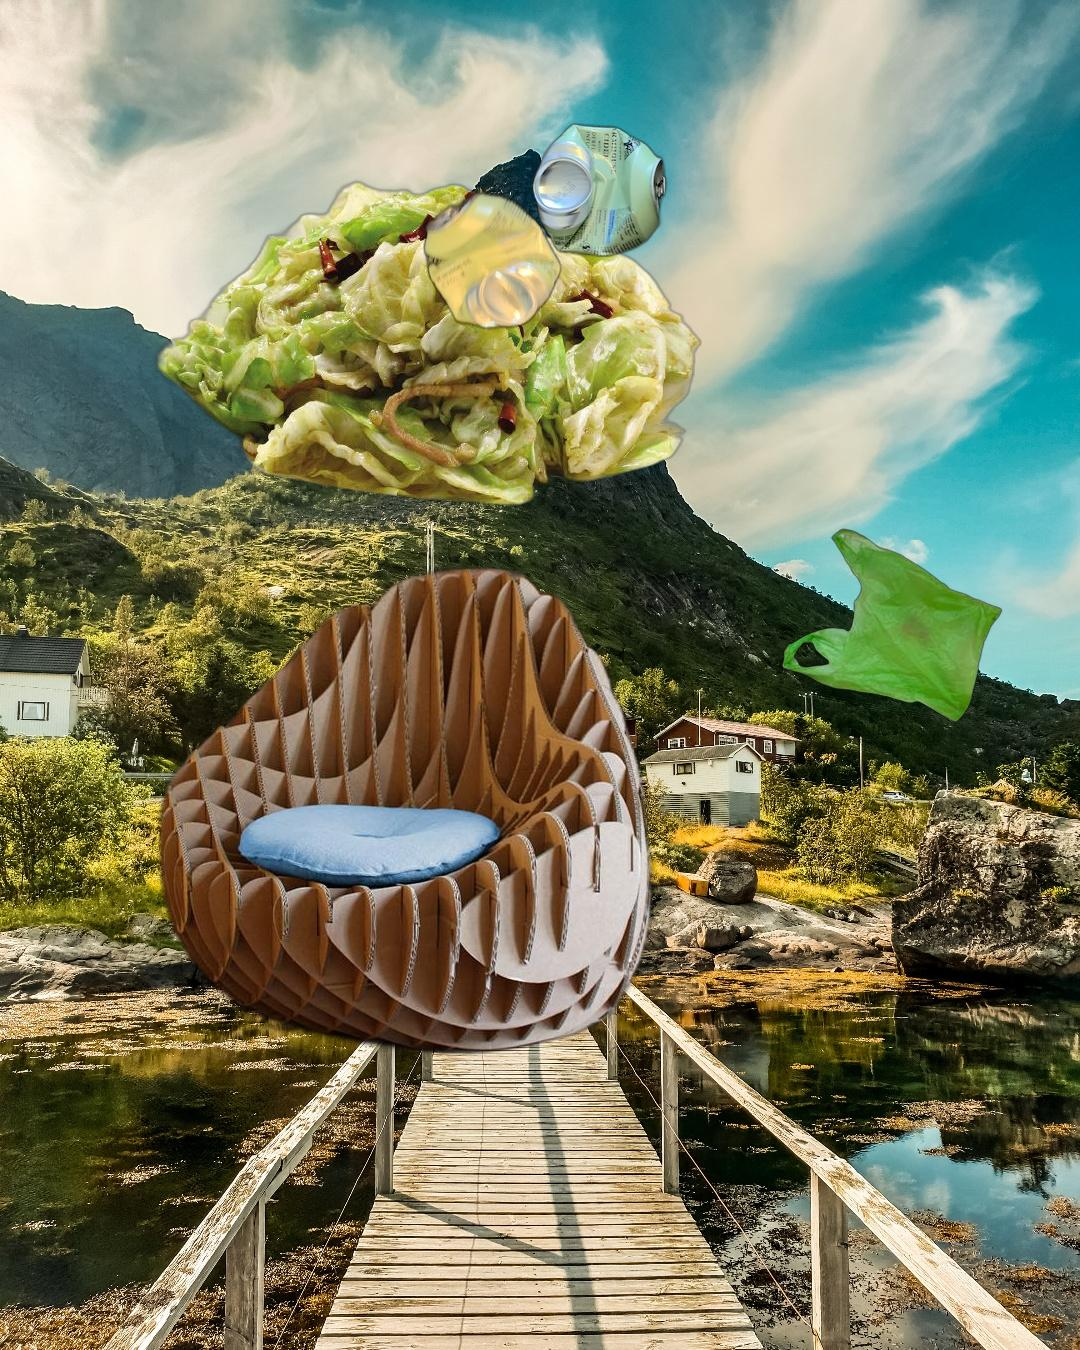biological: (150, 177, 708, 509)
metal-cans: (419, 182, 565, 334), (529, 117, 671, 263)
paper-bag: (421, 719, 639, 991)
plastic-bag: (779, 526, 1003, 725)
trashbox-cardboard: (151, 561, 665, 1059)
